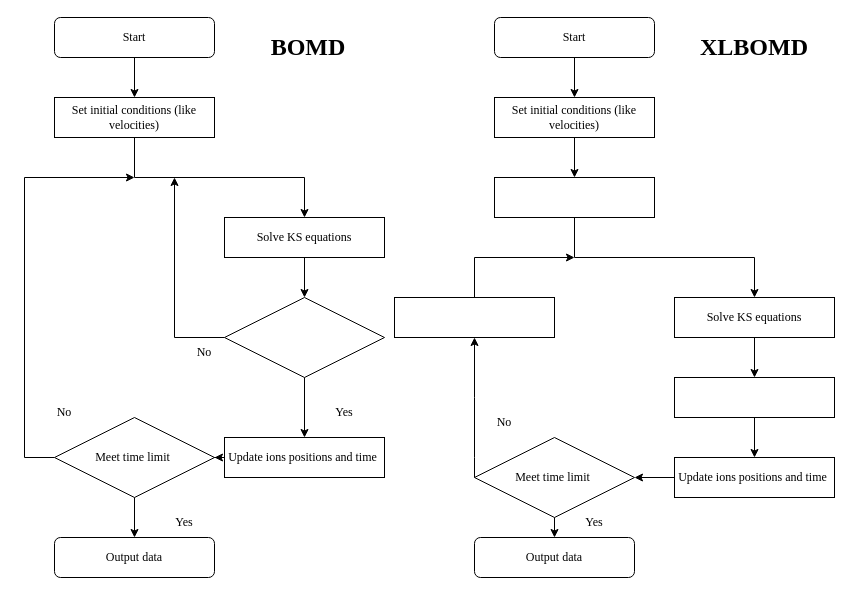
This 852x595 diagram has some shape labels left out. Each missing label, with the centre of its shape:
Apply Kernel: point 754,397
Find the Kernel: point 574,197
Is self-consistent: point 304,337
Move the shadow density: point 474,317
